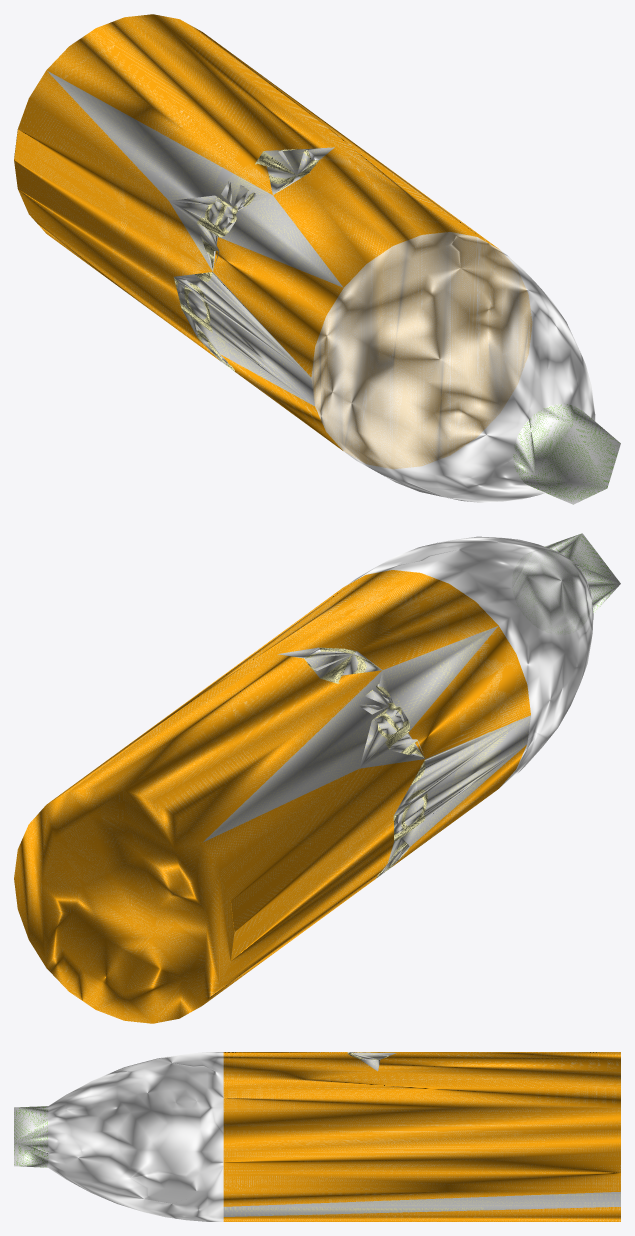
File: model_align.obj
3 views of the same model, one above another, from view 1: azimuth 30°, elevation 25°; view 2: azimuth 150°, elevation 25°; view 3: azimuth 270°, elevation 25° (orthographic). The views are drawn at different scales.
Size of the model in its own units: 0.0679 by 0.0679 by 0.2418.
